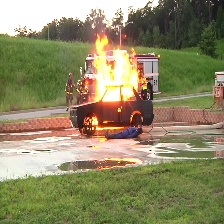fire: (87, 32, 140, 105)
